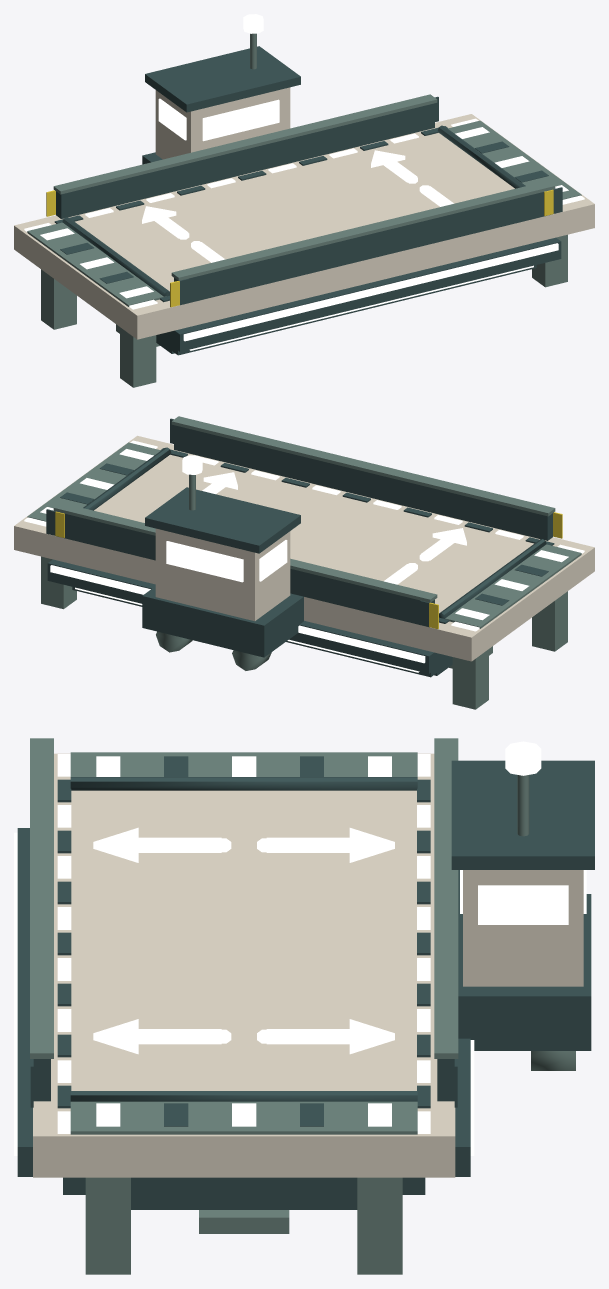
Rendered from Deck_Ferry_v4_6_lab.glb.
The picture shows the model from 3 angles, top to bottom: view 1: azimuth 30°, elevation 25°; view 2: azimuth 150°, elevation 25°; view 3: azimuth 270°, elevation 25°; orthographic projection. The views are drawn at different scales.
Visible parts, largest first — view 1: Deck_Ferry_v4_6; view 2: Deck_Ferry_v4_6; view 3: Deck_Ferry_v4_6.
Part boxes in pixels (box(x1,y1,x2,y2)): Deck_Ferry_v4_6: box(14, 14, 594, 387); Deck_Ferry_v4_6: box(14, 416, 594, 709); Deck_Ferry_v4_6: box(14, 738, 594, 1274).
Bounding box in the file's own units: 6 × 2.7 × 3.85.
